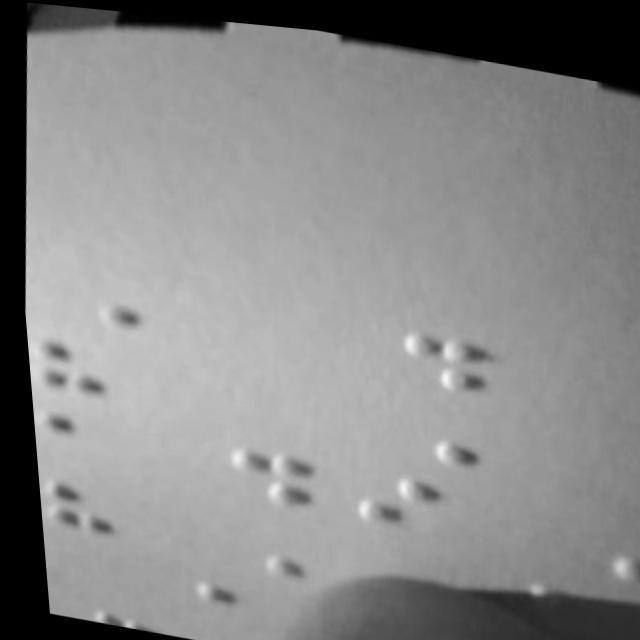braiile: (214, 431, 350, 519), (388, 316, 524, 403)
